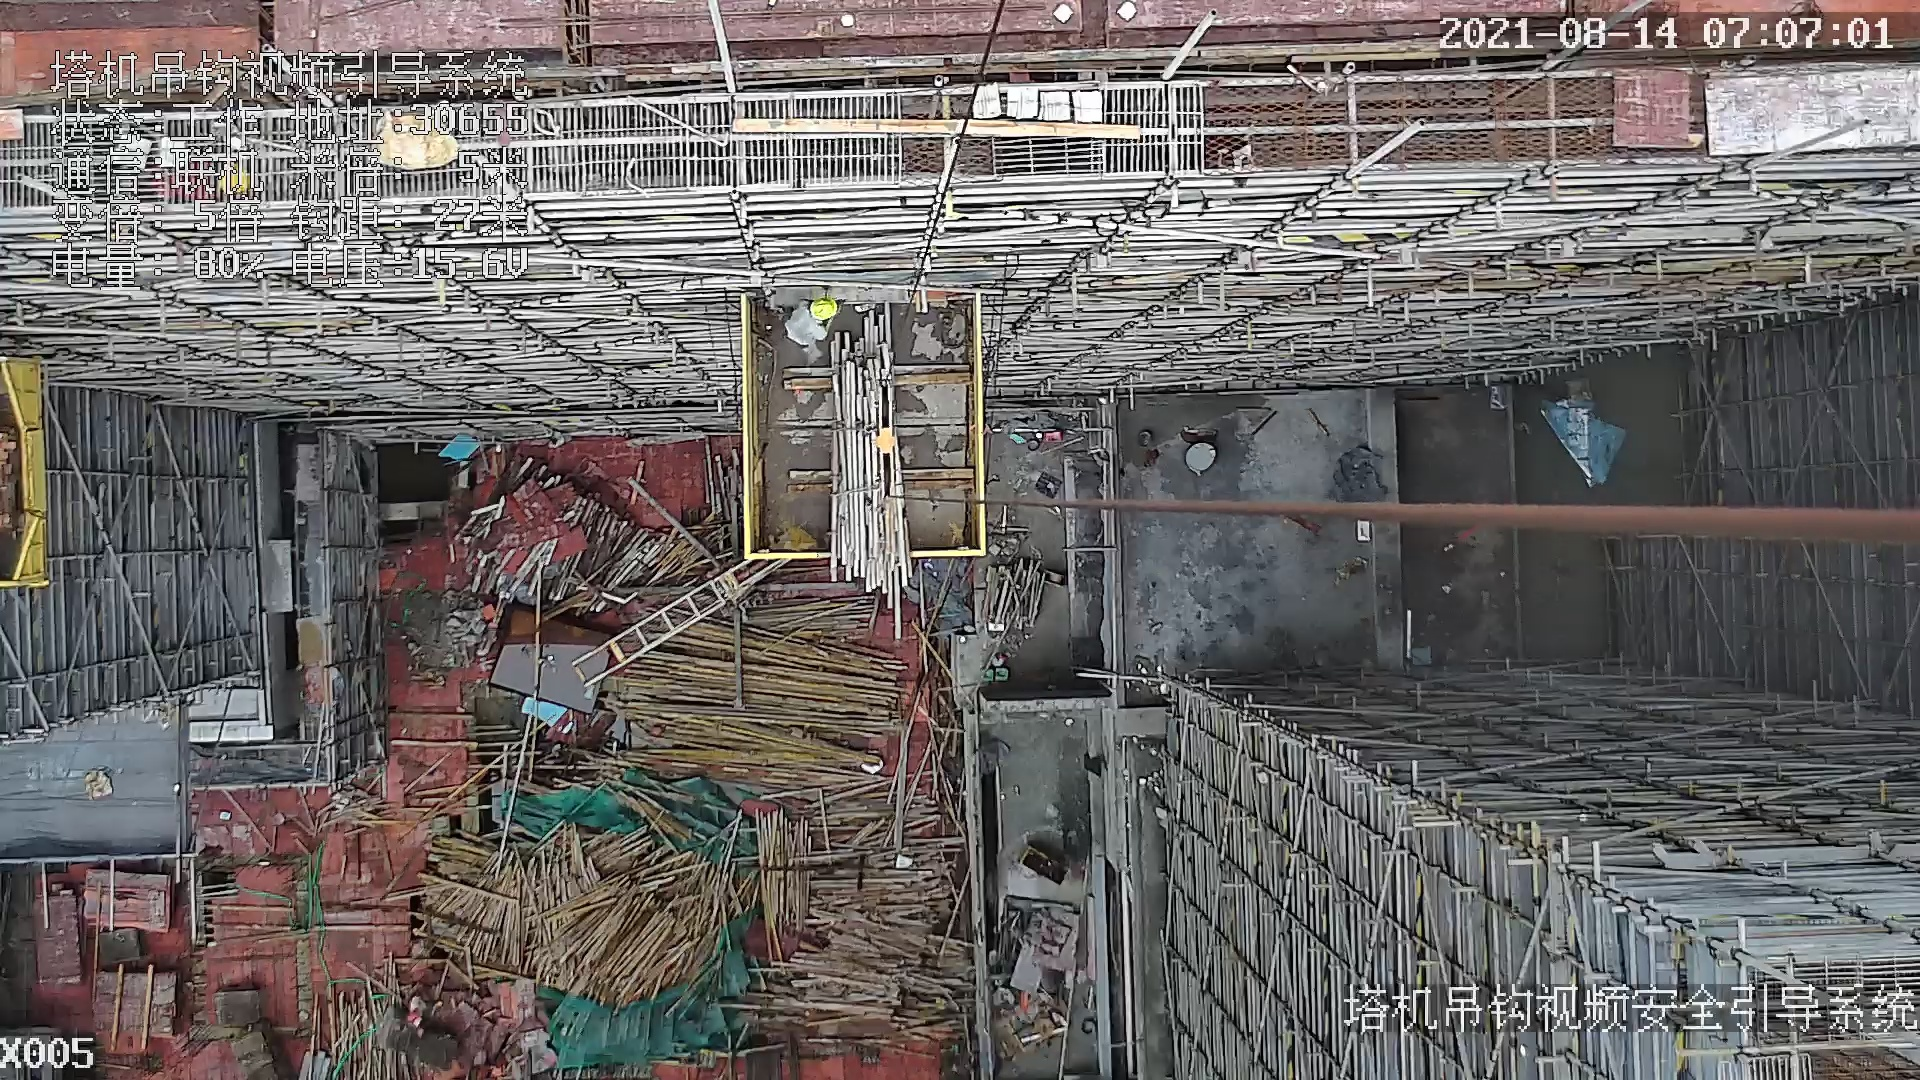helmet: (809, 296, 837, 320)
hook: (869, 385, 904, 503)
person: (768, 280, 838, 347)
